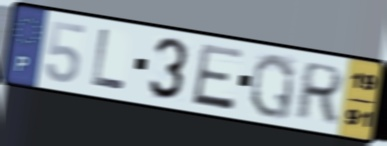3: (146, 36, 193, 103)
5: (44, 18, 87, 84)
E: (189, 41, 246, 113)
L: (89, 27, 128, 94)
Q: (247, 51, 297, 123)
R: (291, 60, 346, 125)
